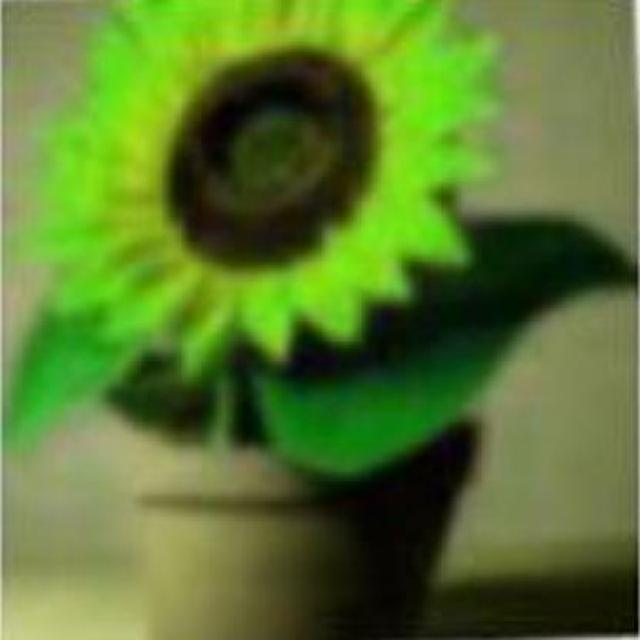sunflower: (4, 0, 522, 378)
